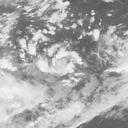cyclone: (41, 45, 83, 84)
